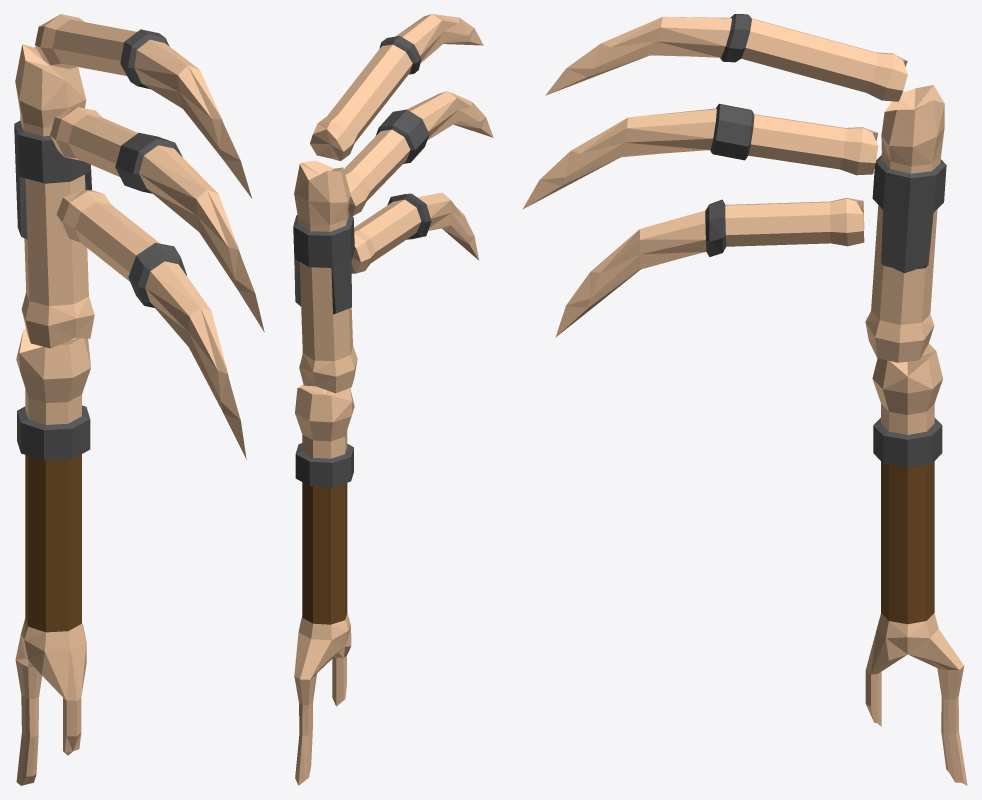
The model's file is Undead_Graveclaw.fbx.
3 views of the same model, side by side, from view 1: azimuth 30°, elevation 25°; view 2: azimuth 150°, elevation 25°; view 3: azimuth 270°, elevation 25° (orthographic). The views are drawn at different scales.
Visible parts, largest first — view 1: Undead_Graveclaw, Undead_Graveclaw.001, Undead_Graveclaw.002, Undead_Graveclaw.004, Undead_Graveclaw.003; view 2: Undead_Graveclaw, Undead_Graveclaw.001, Undead_Graveclaw.003, Undead_Graveclaw.004, Undead_Graveclaw.002; view 3: Undead_Graveclaw, Undead_Graveclaw.001, Undead_Graveclaw.004, Undead_Graveclaw.003, Undead_Graveclaw.002.
Boxes of the visible parts, box(x1,y1,x2,y2) form: Undead_Graveclaw: box(15, 328, 90, 785); Undead_Graveclaw.001: box(14, 44, 94, 348); Undead_Graveclaw.002: box(56, 190, 246, 459); Undead_Graveclaw.004: box(50, 107, 264, 332); Undead_Graveclaw.003: box(35, 14, 251, 198); Undead_Graveclaw: box(294, 384, 354, 785); Undead_Graveclaw.001: box(293, 160, 357, 393); Undead_Graveclaw.003: box(310, 14, 483, 161); Undead_Graveclaw.004: box(344, 91, 493, 216); Undead_Graveclaw.002: box(351, 192, 478, 273); Undead_Graveclaw: box(865, 343, 967, 785); Undead_Graveclaw.001: box(865, 85, 946, 362); Undead_Graveclaw.004: box(522, 103, 878, 209); Undead_Graveclaw.003: box(545, 14, 907, 101); Undead_Graveclaw.002: box(556, 197, 864, 336).
Bounding box in the file's own units: 0.0693 × 0.814 × 0.426.
